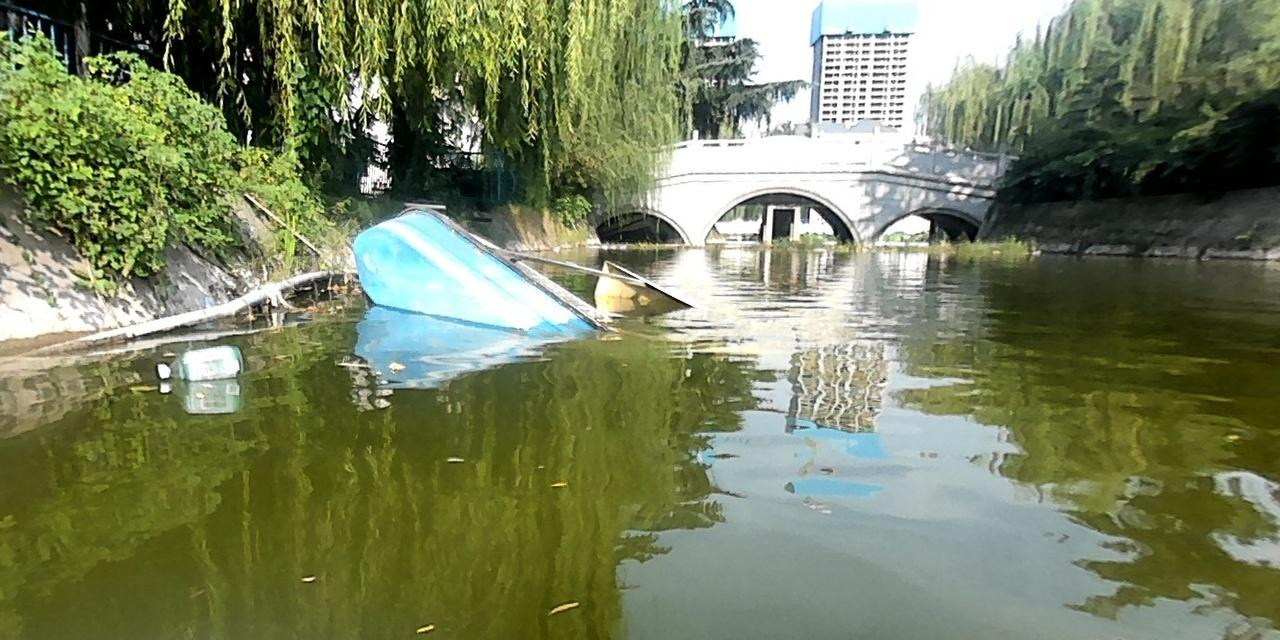bottle: (155, 343, 244, 379)
